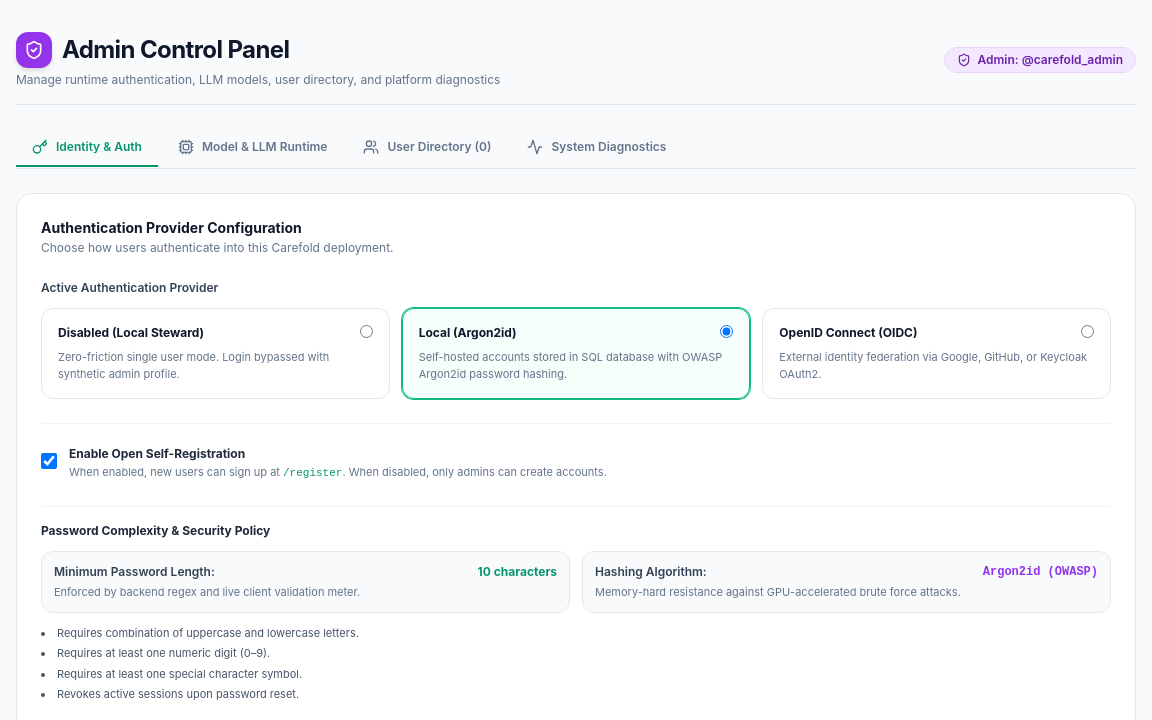
it: AdminClient Component › renders user directory and disables self-deletion button for current logged-in admin
This screenshot has width=1152, height=720.
Click the tab with test id "admin-tab-users" at (427, 148), box [347,129,507,167]
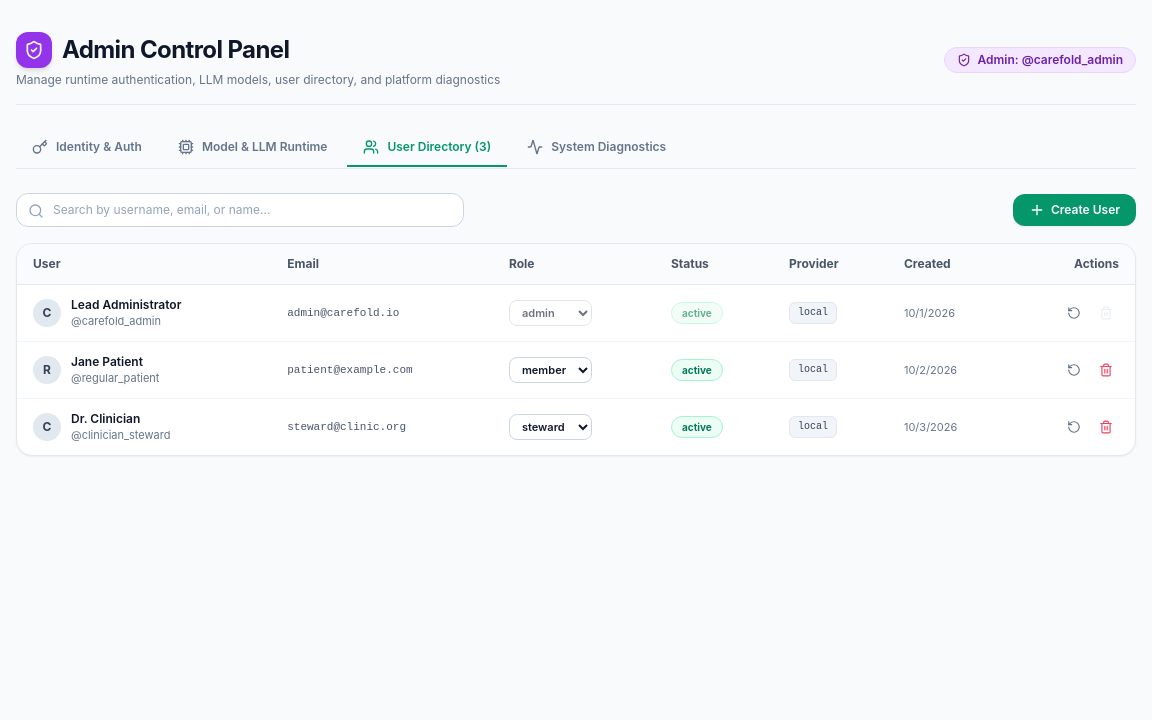
Now the table with test id "users-table" is shown, box [17,244,1135,455]
